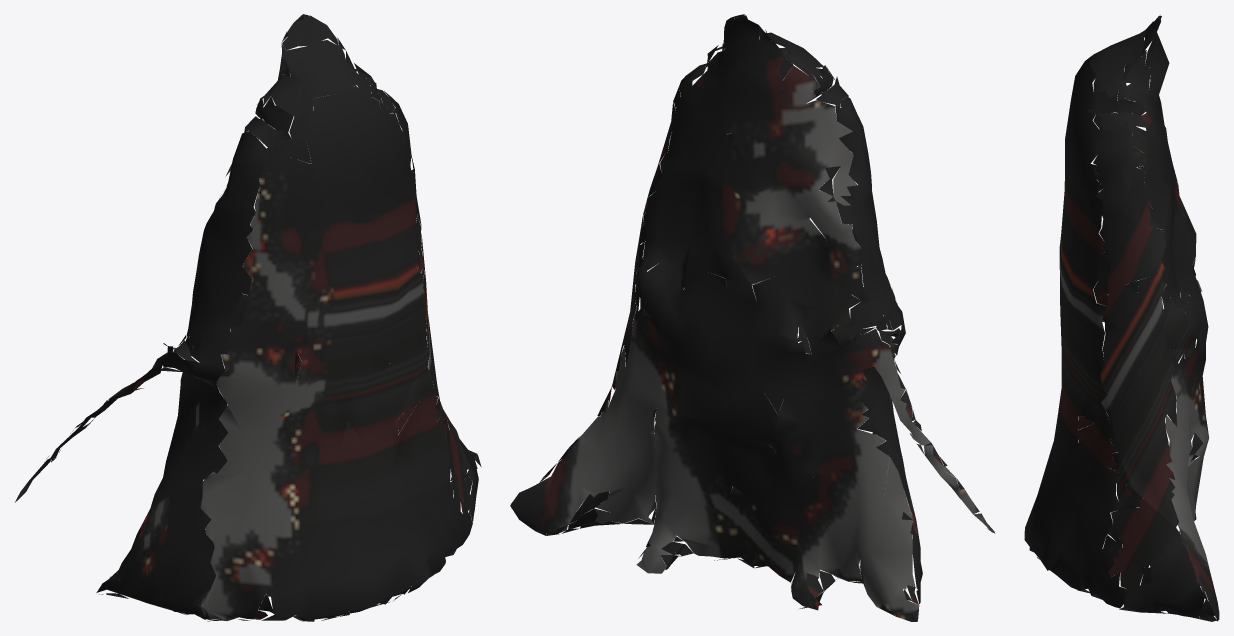
3 views of the same model, side by side, from view 1: azimuth 30°, elevation 25°; view 2: azimuth 150°, elevation 25°; view 3: azimuth 270°, elevation 25° (orthographic). The views are drawn at different scales.
Parts seen in each view (by area): view 1: body.002; view 2: body.002; view 3: body.002.
Part boxes in pixels (left/top/right/bottom): body.002: left=15, top=14, right=481, bottom=621; body.002: left=510, top=14, right=995, bottom=621; body.002: left=1024, top=15, right=1219, bottom=621.
Size of the model in its own units: 1.78 by 2.01 by 0.651.
1 material, 1 textured.
